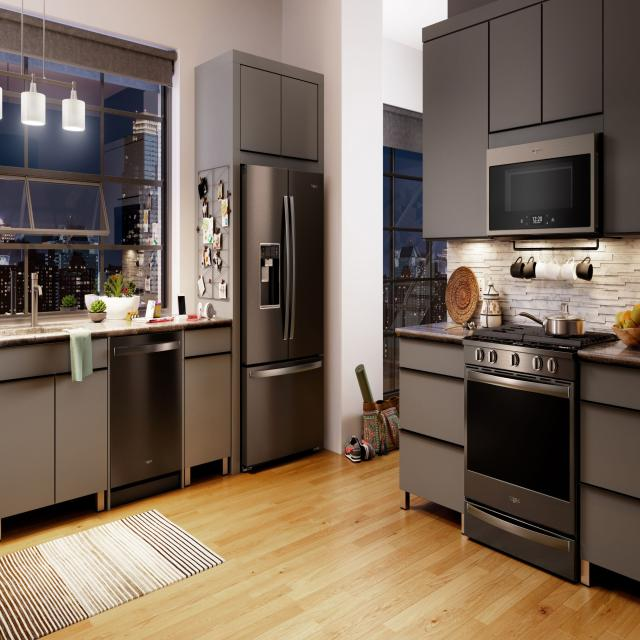dishwasher: (108, 328, 184, 507)
